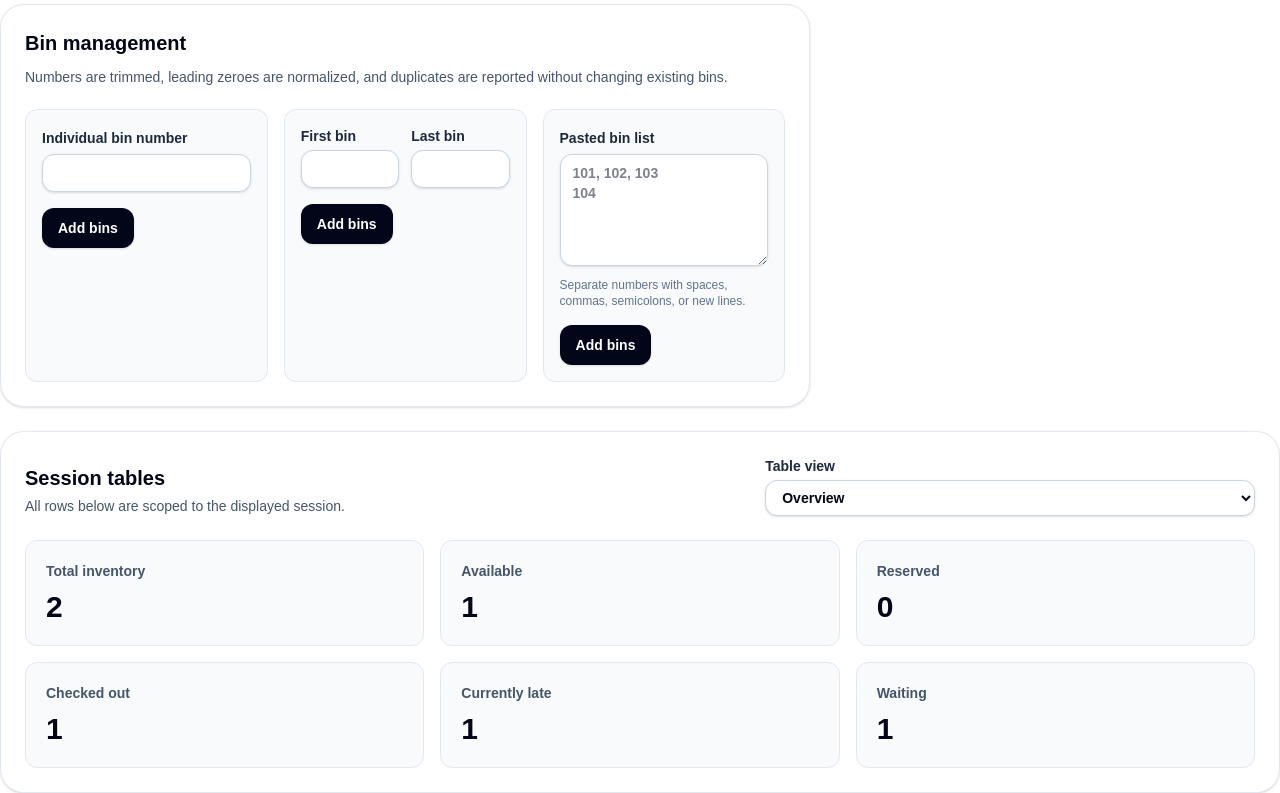
Test: admin dashboard client behavior › announces clear empty states
This screenshot has width=1280, height=793.
(page scrolled)
Select "Current late rentals" in the dropdown labelled "Table view". click: (1010, 498)
box: 765,480 -> 1255,516
(page scrolled)
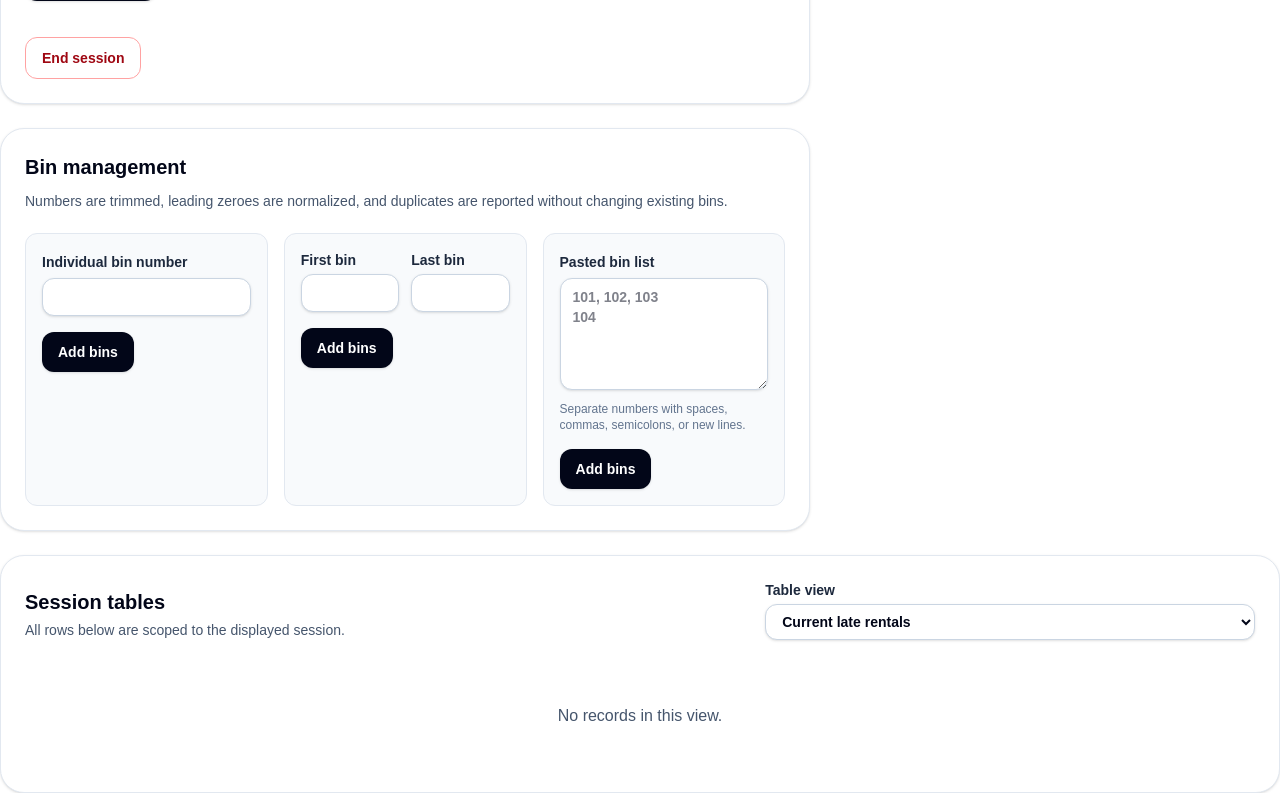
Select "Total inventory" in the dropdown labelled "Table view". click: (1010, 622)
box: 765,604 -> 1255,640
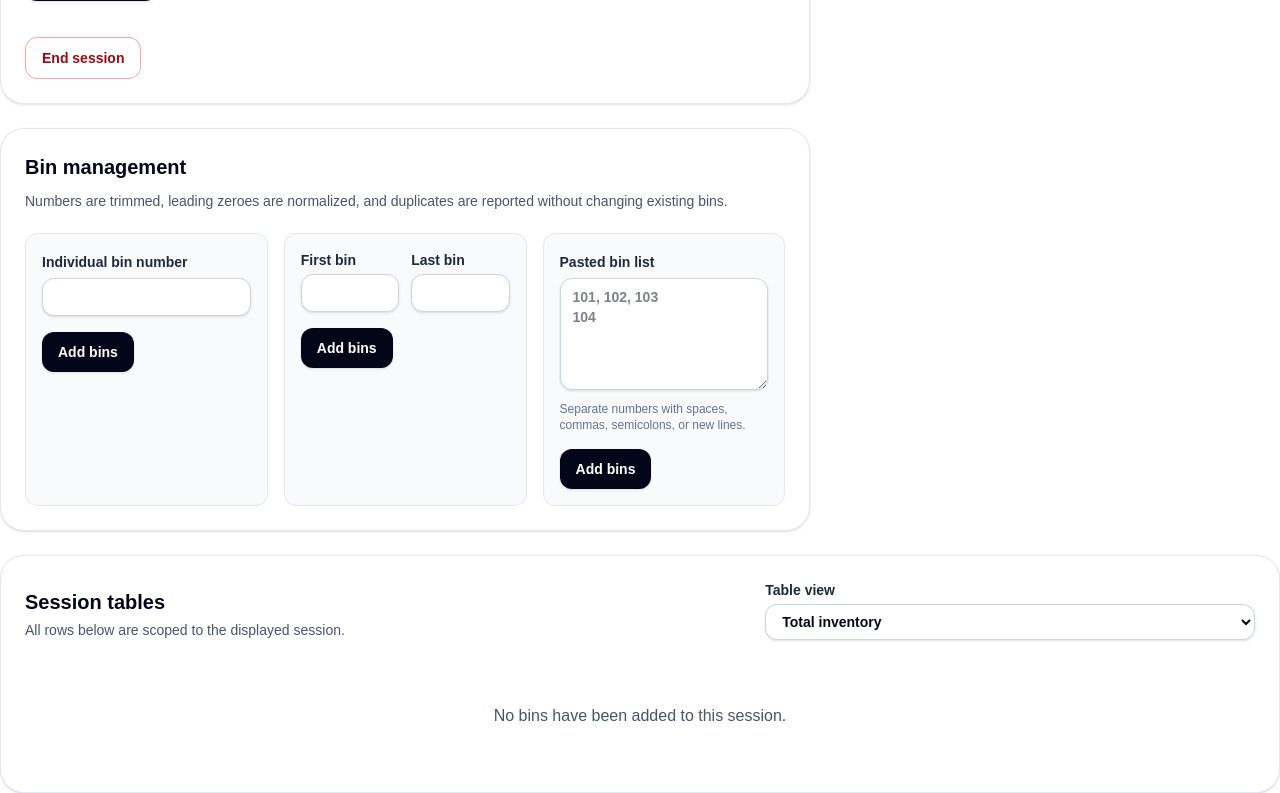
Expected: the text "No bins have been added to this session." is shown, 494,707 -> 786,724
Select "Current waitlist" in the dropdown labelled "Table view". click: (1010, 622)
box: 765,604 -> 1255,640
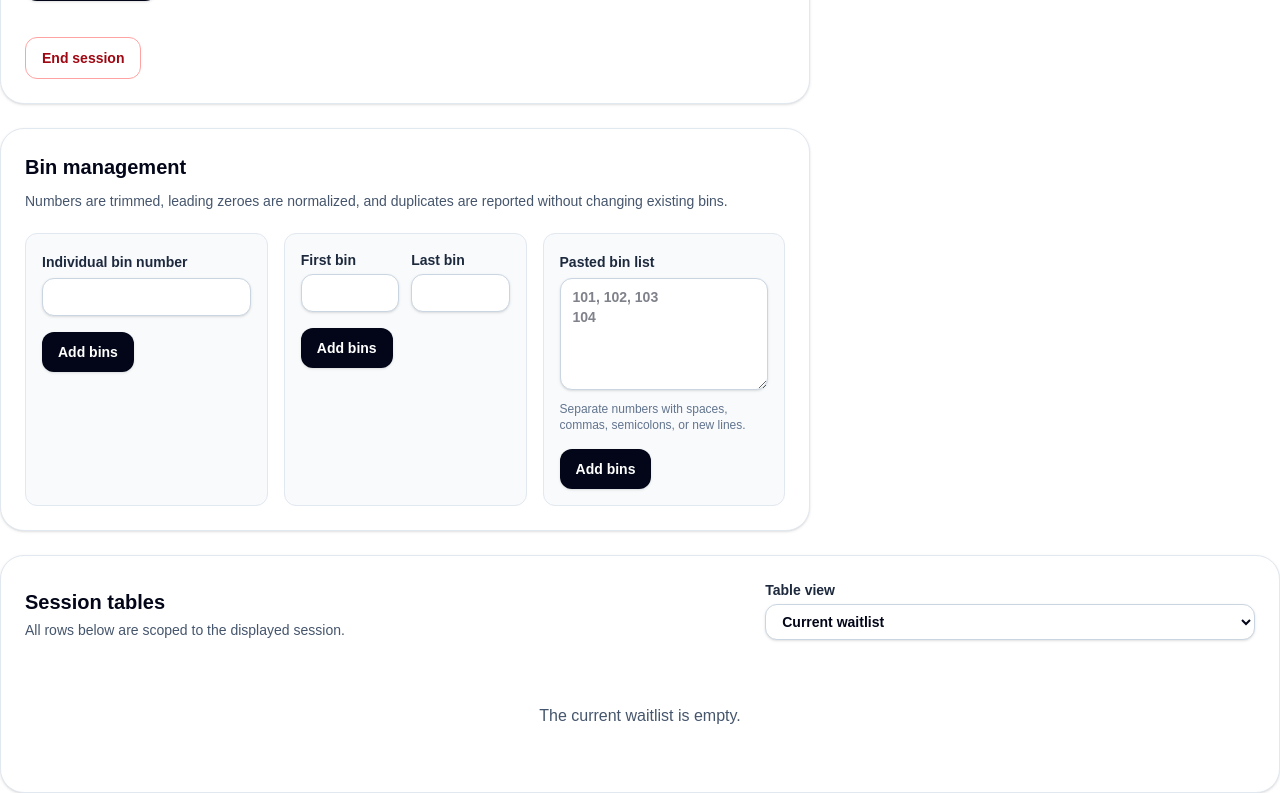
Expected: the text "The current waitlist is empty." is shown, 539,707 -> 741,724
